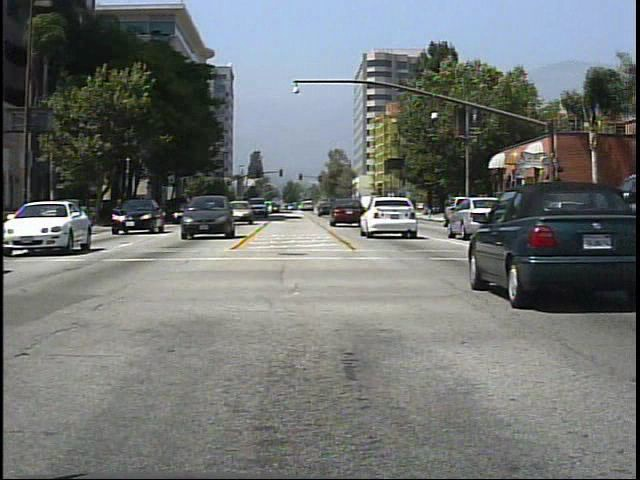person: (490, 189, 508, 224), (524, 194, 542, 229)
